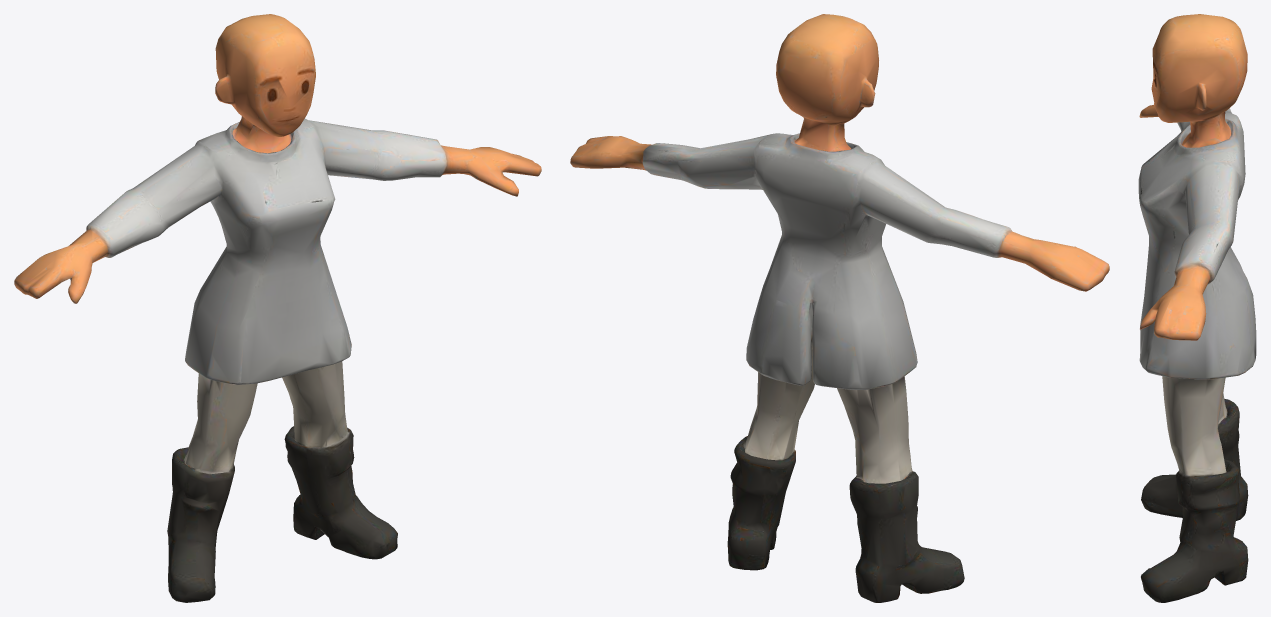
File: body_female.glb
3 views of the same model, side by side, from view 1: azimuth 30°, elevation 25°; view 2: azimuth 150°, elevation 25°; view 3: azimuth 270°, elevation 25° (orthographic). The views are drawn at different scales.
Visible parts, largest first — view 1: tripo_node_1ea50f64-ff50-46c5-ac83-7cdc2d54f14d; view 2: tripo_node_1ea50f64-ff50-46c5-ac83-7cdc2d54f14d; view 3: tripo_node_1ea50f64-ff50-46c5-ac83-7cdc2d54f14d.
Part boxes in pixels (bbox=[...]): tripo_node_1ea50f64-ff50-46c5-ac83-7cdc2d54f14d: bbox=[14, 14, 541, 602]; tripo_node_1ea50f64-ff50-46c5-ac83-7cdc2d54f14d: bbox=[570, 14, 1109, 602]; tripo_node_1ea50f64-ff50-46c5-ac83-7cdc2d54f14d: bbox=[1138, 14, 1256, 602].
Size of the model in its own units: 0.994 by 0.9984 by 0.2014.
1 material, 1 textured.
